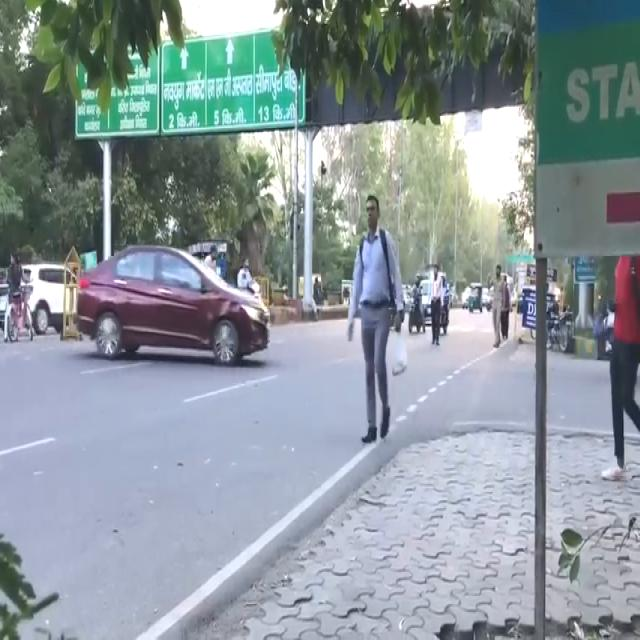MOTORCYCLE: (407, 292, 423, 332)
SED: (75, 243, 270, 367)
